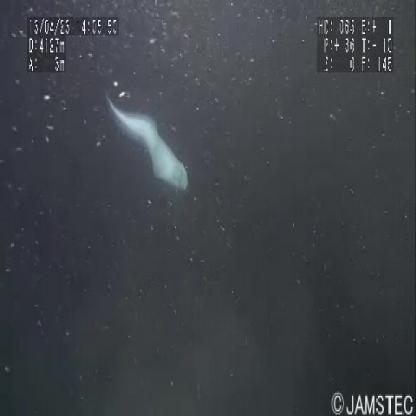Bio: (102, 88, 192, 196)
